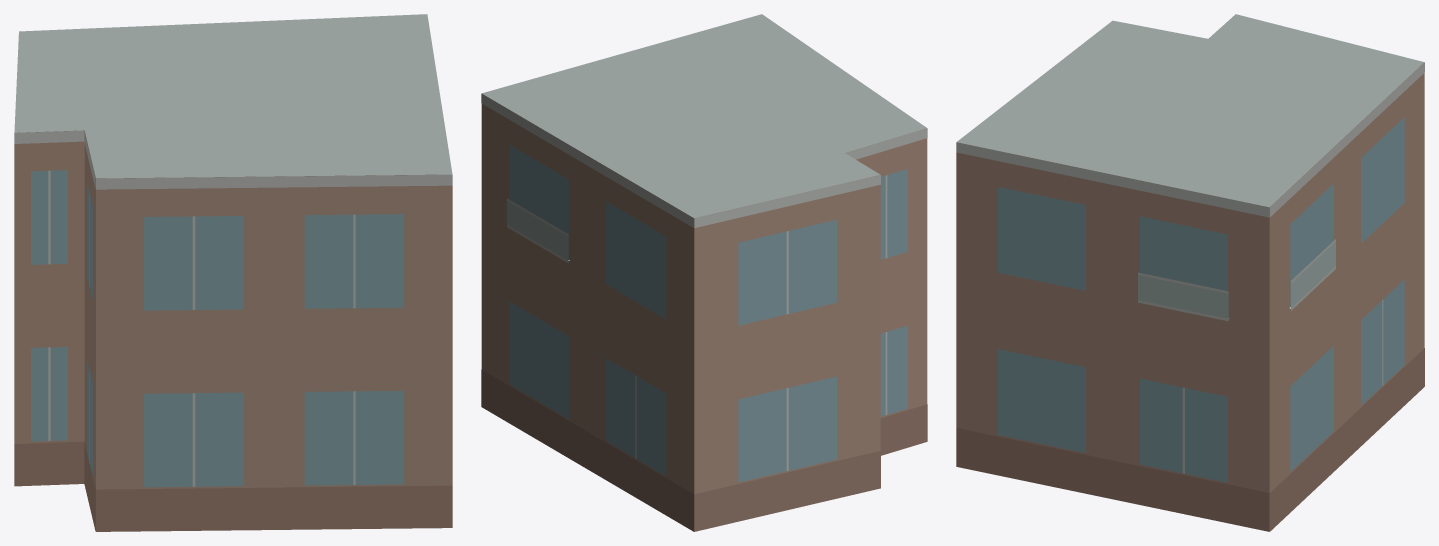
The model's file is survey-upis-32599334.glb.
3 views of the same model, side by side, from view 1: azimuth 30°, elevation 25°; view 2: azimuth 150°, elevation 25°; view 3: azimuth 270°, elevation 25° (orthographic). The views are drawn at different scales.
Visible parts, largest first — view 1: survey-upis-32599334.tmp; view 2: survey-upis-32599334.tmp; view 3: survey-upis-32599334.tmp.
Part boxes in pixels (x1=…): survey-upis-32599334.tmp: x1=14, y1=14, x2=452, y2=531; survey-upis-32599334.tmp: x1=481, y1=14, x2=927, y2=531; survey-upis-32599334.tmp: x1=956, y1=14, x2=1424, y2=531.
Bounding box in the file's own units: 9.85 × 7.7 × 10.08.
